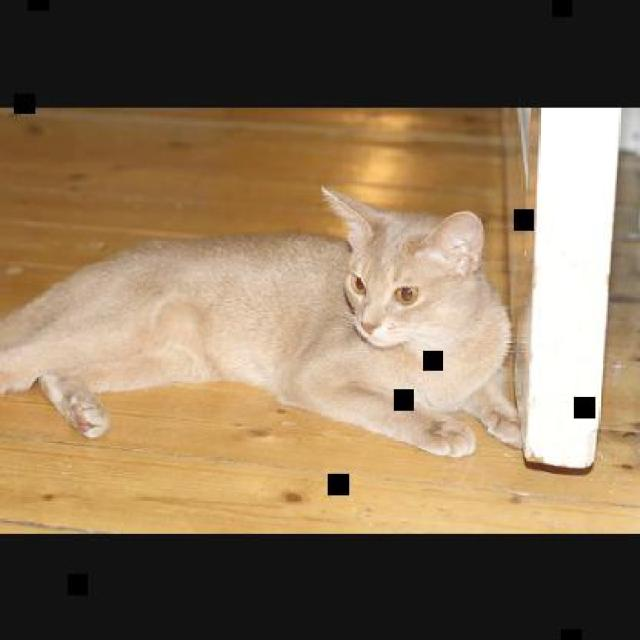unauthorized: (0, 183, 523, 459)
